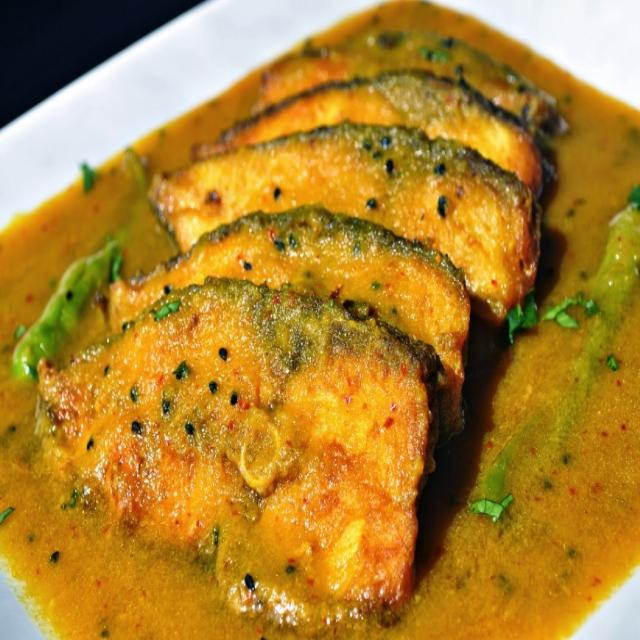FISH CURRY: (0, 2, 639, 639)
